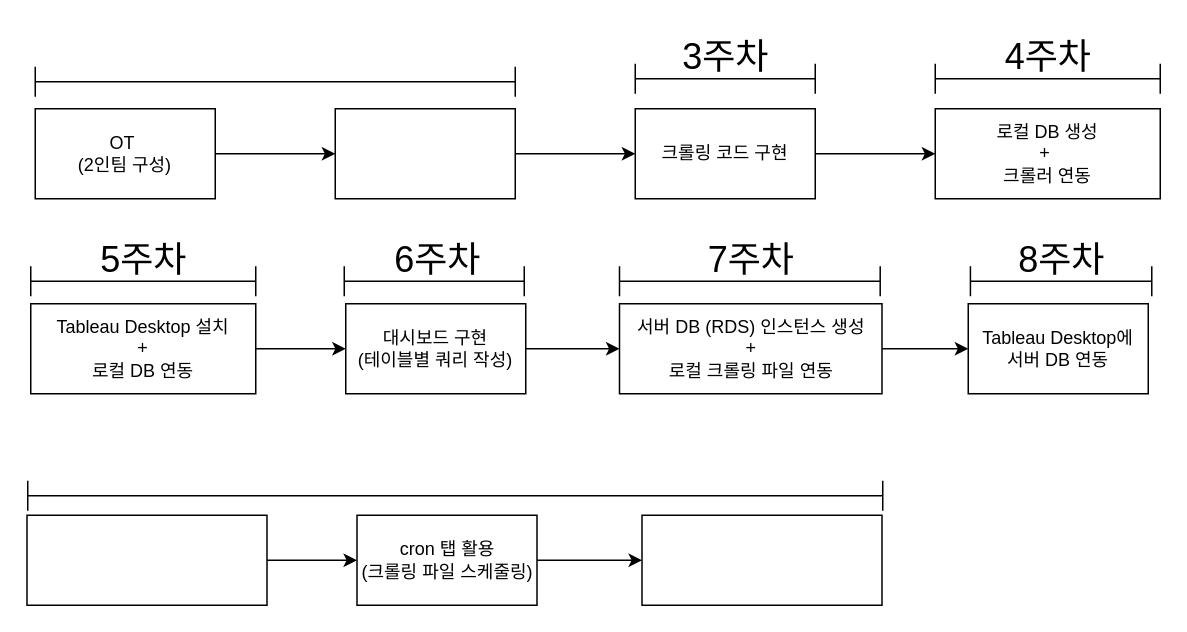
Image size: 1187x632. Some labels were removed from this diagram. The box of each missing label's shape, as (x1, y1, x2, y2) in pixels:
1~2주차: (34, 65, 515, 97)
9 ~ 10주차 (option): (26, 479, 883, 511)
가상 머신 (EC2) 인스턴스 생성 + 서버에 크롤러 배포: (26, 514, 267, 605)
대시보드 내용 구상: (334, 107, 515, 199)
아마존 AWS Lambda 활용 (서버 인스턴스 스케줄링): (640, 514, 882, 605)
